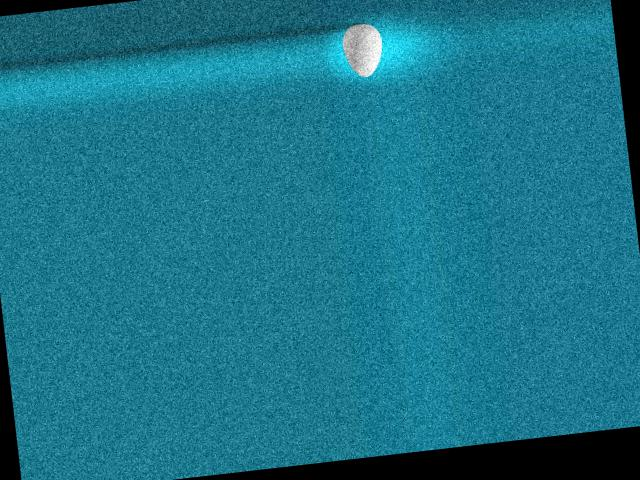egg: (339, 21, 385, 78)
